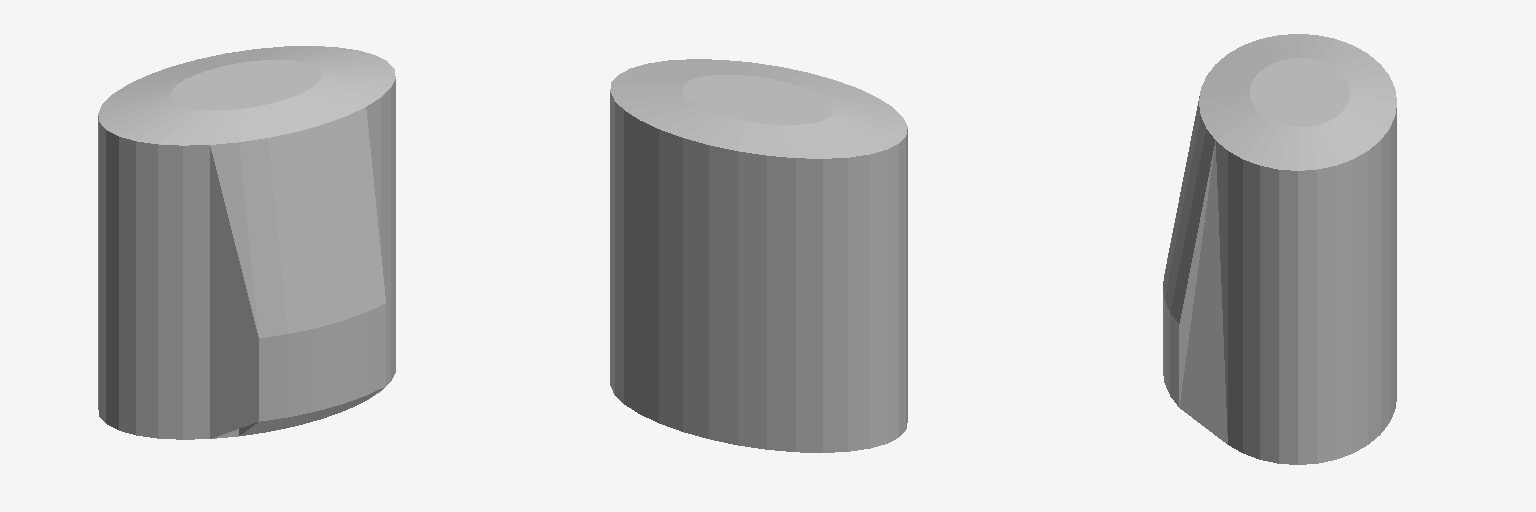
The model's file is Torso.obj.
3 renders of one model, left to right at view 1: azimuth 30°, elevation 25°; view 2: azimuth 150°, elevation 25°; view 3: azimuth 270°, elevation 25°, orthographic.
Parts seen in each view (by area): view 1: Cylinder.001_Cylinder.002; view 2: Cylinder.001_Cylinder.002; view 3: Cylinder.001_Cylinder.002.
Part boxes in pixels (x1,y1,x2,y2): Cylinder.001_Cylinder.002: (98, 46, 395, 439); Cylinder.001_Cylinder.002: (610, 59, 907, 452); Cylinder.001_Cylinder.002: (1163, 34, 1396, 464).
Bounding box in the file's own units: 2.86 × 3.18 × 2.07.